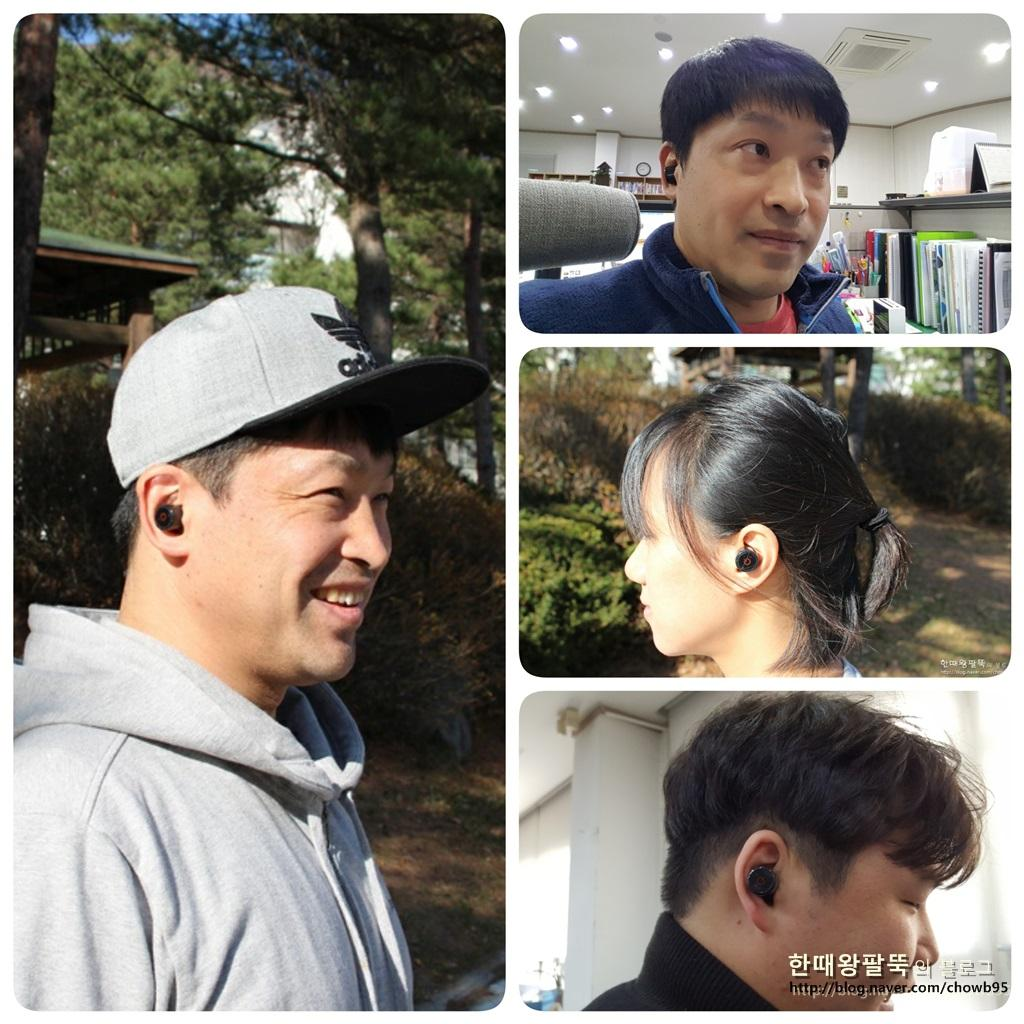earphone: (745, 856, 787, 911), (727, 546, 764, 584), (157, 498, 188, 538), (663, 158, 688, 192)
